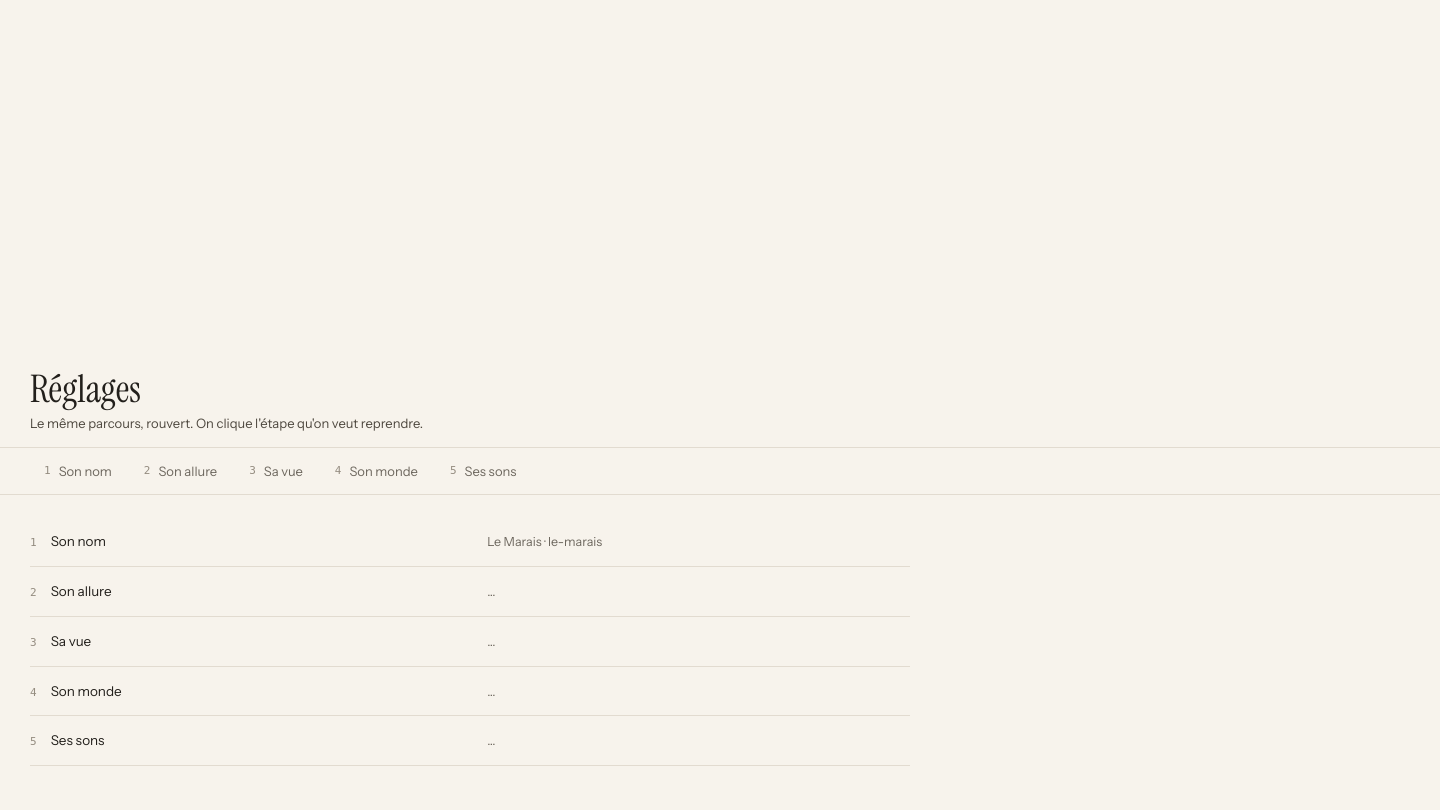
Test: le texte de caméra › sans vue choisie, rien n'est écrit — et l'écran le dit
(page scrolled)
Click the button "3 Sa vue" at point(276, 471), box [235, 456, 317, 486]
(page scrolled)
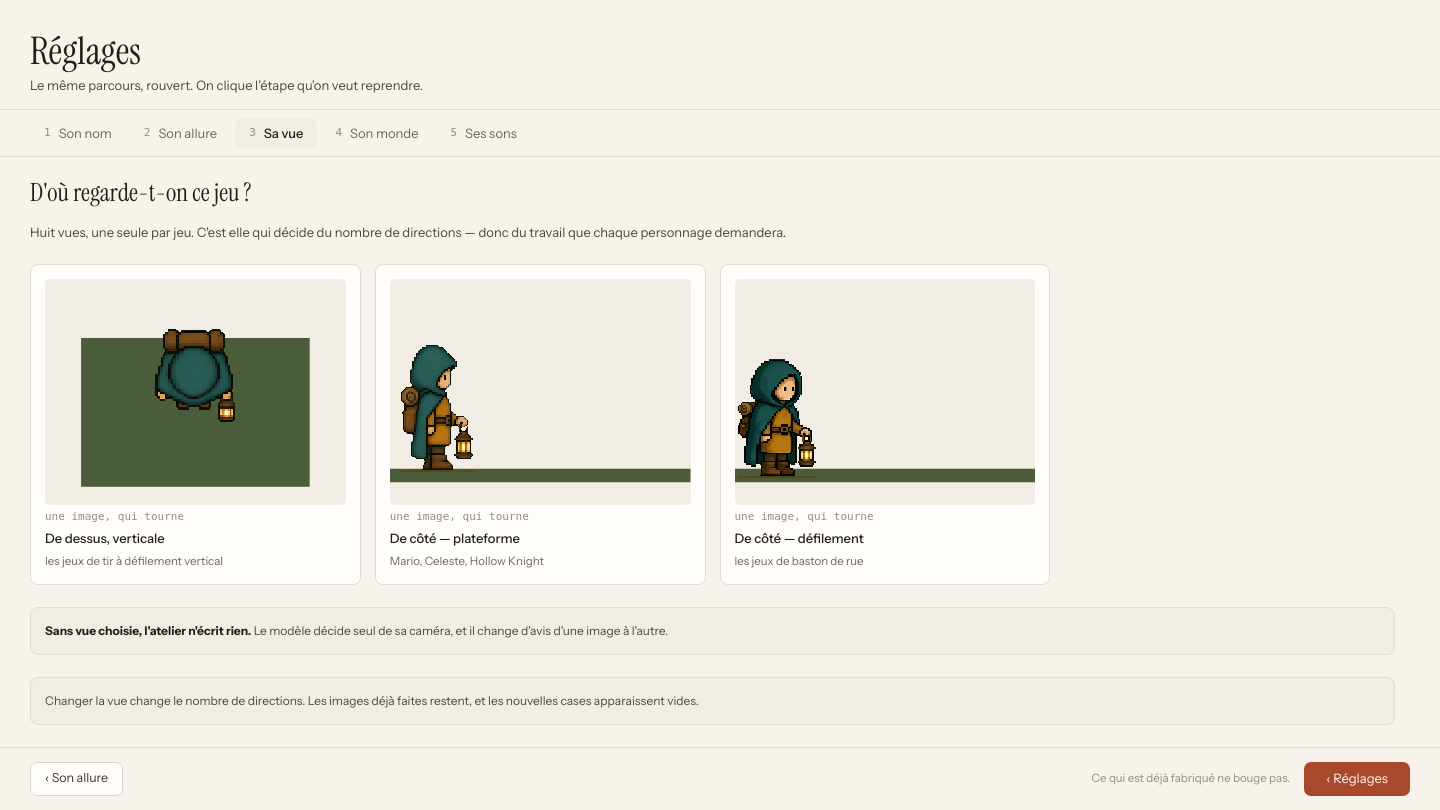
Check: the text "Sans vue choisie, l'atelier n'écrit rien." is shown, box [45, 622, 251, 638]
